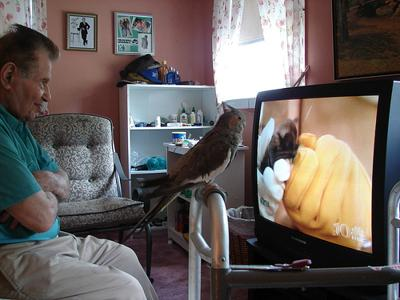person: (2, 27, 162, 300)
